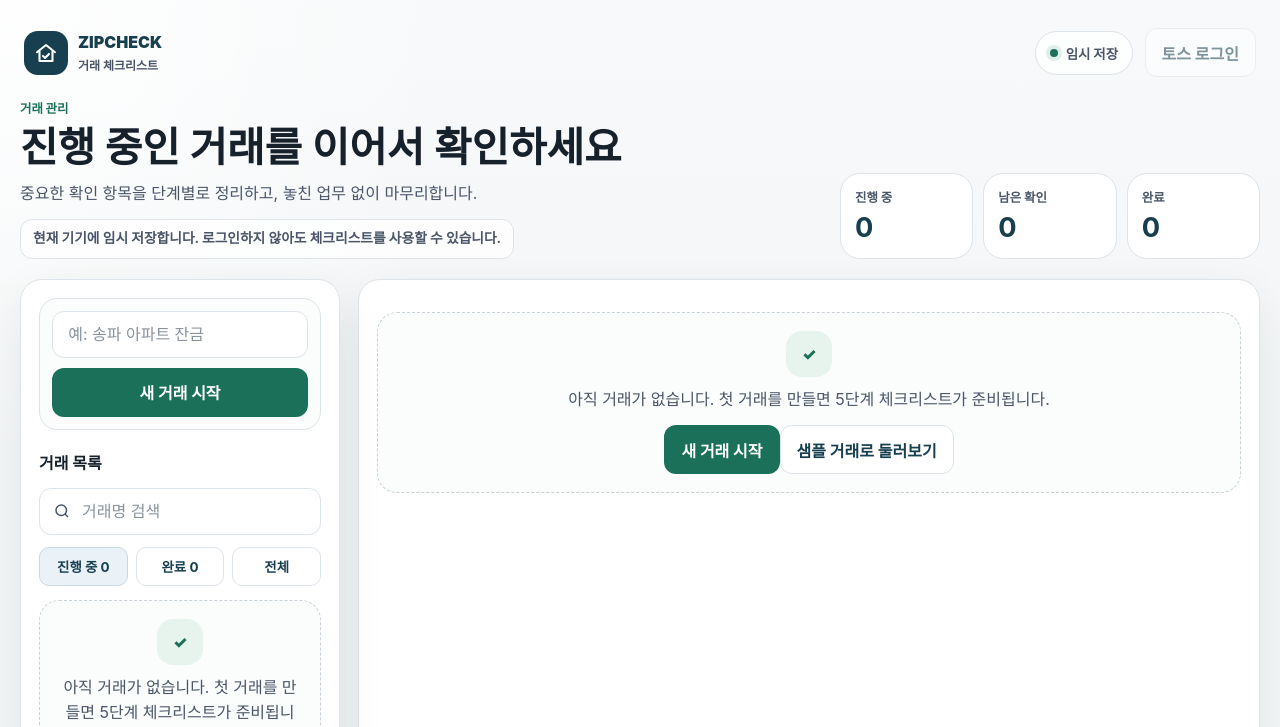
App broker checklist › uses actionable 12-item progress and separates reference-only items from the next action
This screenshot has width=1280, height=727.
In the field named "거래명": (180, 334) x1=52 y1=311 x2=308 y2=358, type "송파 헬리오시티 매매"
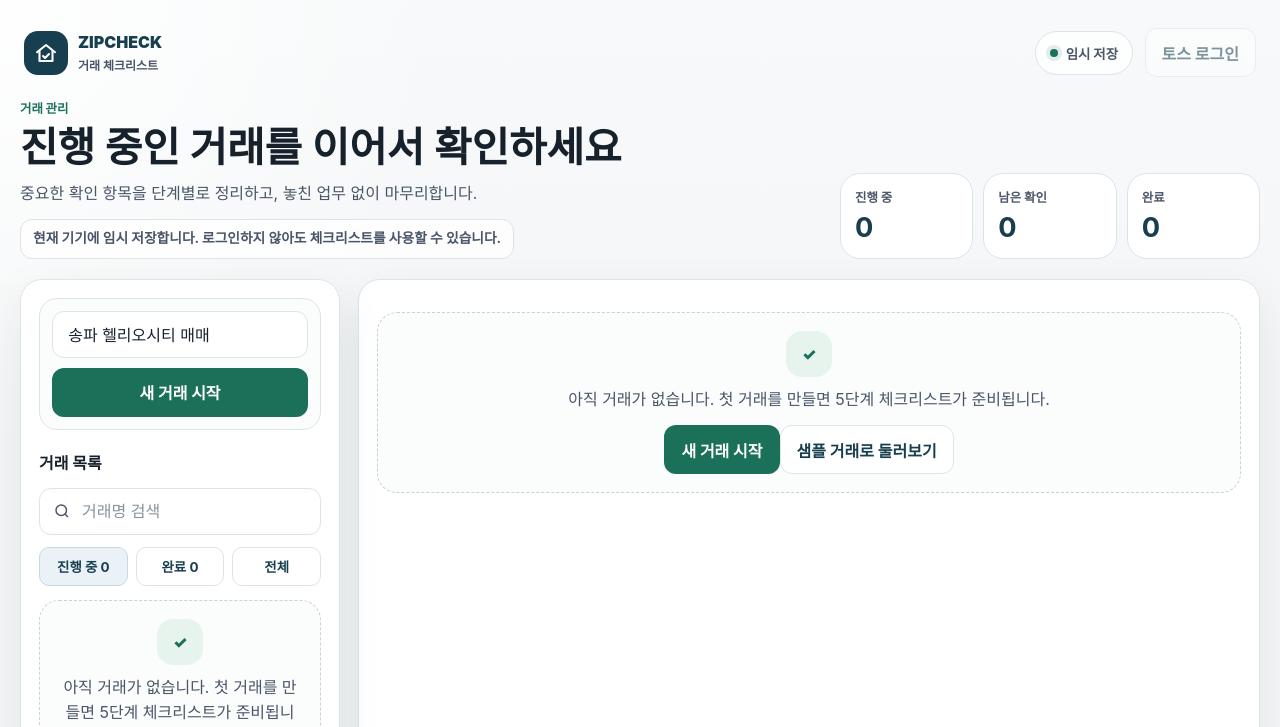
Click the 1st button "새 거래 시작": (180, 392) x1=52 y1=368 x2=308 y2=417
(page scrolled)
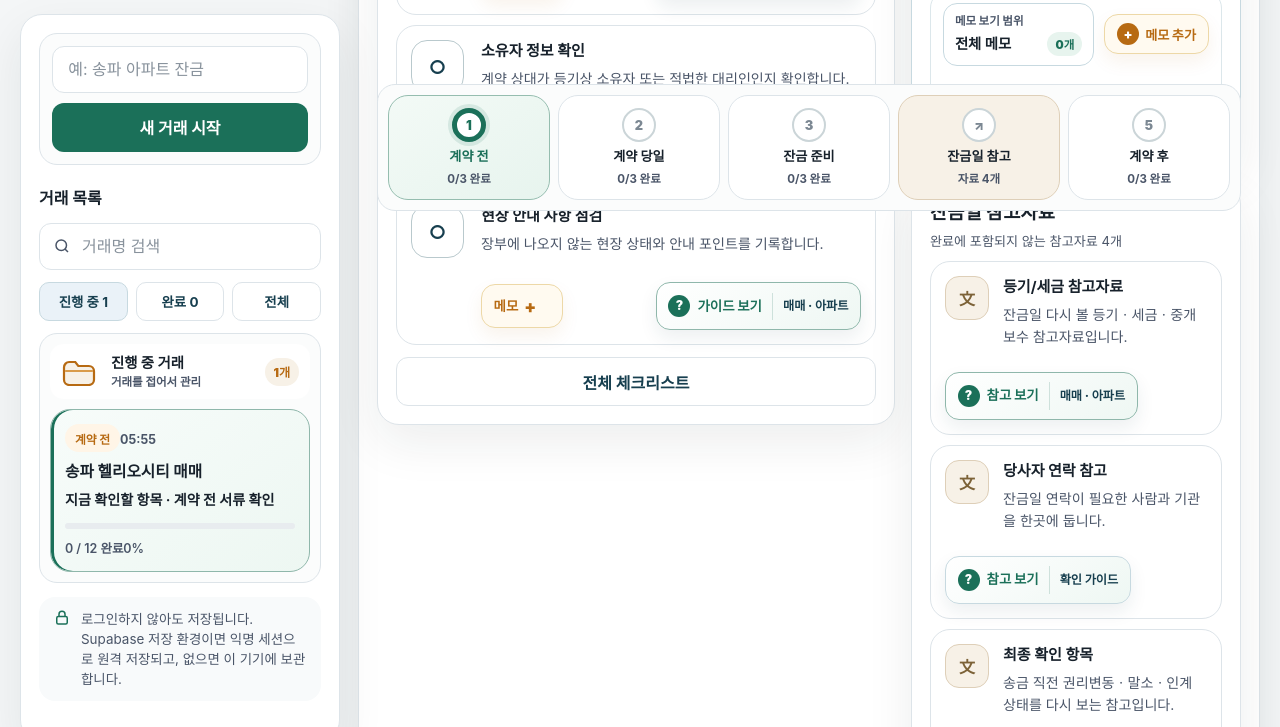
Expected: the text "0 / 12 완료" is shown, x1=65 y1=541 x2=123 y2=556
Expected: the text "완료에 포함되지 않는 참고자료 4개" is shown, x1=930 y1=232 x2=1122 y2=251
Expected: the button with aria-label "등기/세금 참고자료 참고 보기" is shown, x1=945 y1=372 x2=1138 y2=420
